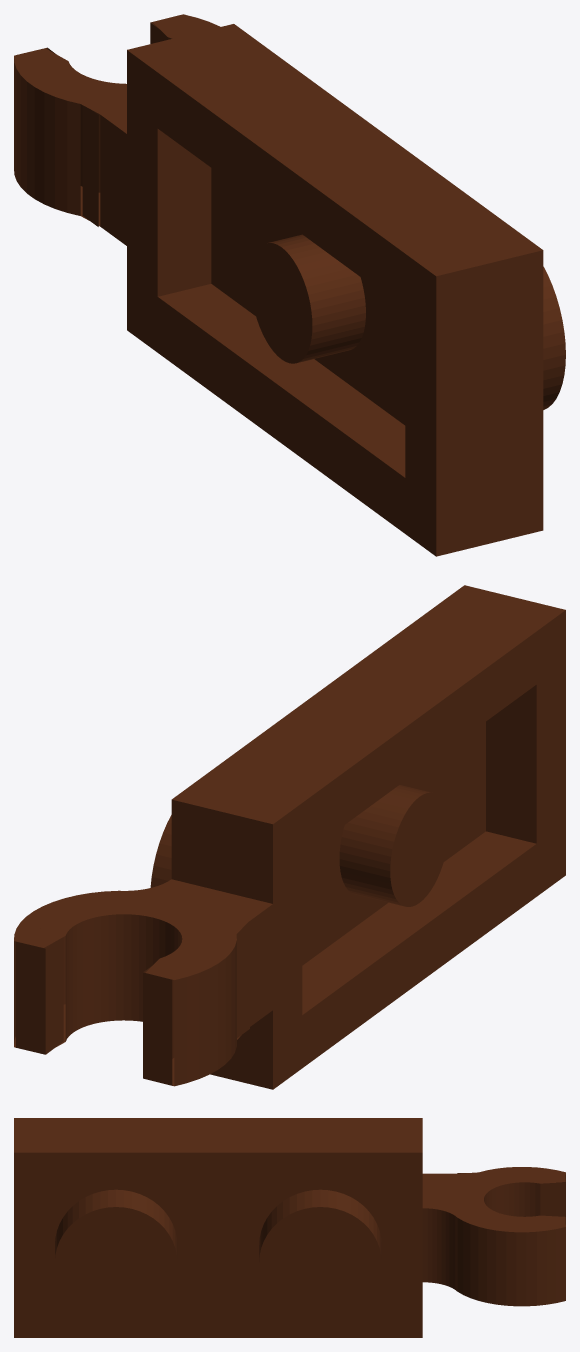
The picture shows the model from 3 angles, top to bottom: view 1: azimuth 30°, elevation 25°; view 2: azimuth 150°, elevation 25°; view 3: azimuth 270°, elevation 25°; orthographic projection. The views are drawn at different scales.
Parts seen in each view (by area): view 1: box3u2p, mesh_42, box5, _3_16cyli_1, _4_4disc, _1_4cyli_3, clip6, rect2p, rect2p_1, _1_4cyli, _1_4cyli_12, _1_4cyli_9 (+1 smaller); view 2: mesh_42, box3u2p, box5, _5_8cyli, rect3_1, clip6, _3_16cyli_1, box2_5_1, _4_4disc, _1_4cyli_2, box2_5, rect3 (+6 smaller); view 3: mesh_42, box3u2p, _4_4disc_2, _4_4disc_1, _1_4cyli_4, clip6, _3_16cyli, _5_8cyli, _1_4cyli_8, _1_4cyli_7, _1_4cyli_11, _1_4cyli_12 (+3 smaller).
Boxes of the visible parts, x1,y1,x2,y2 form: box3u2p: [127, 24, 543, 556]; mesh_42: [127, 50, 436, 556]; box5: [157, 129, 405, 477]; _3_16cyli_1: [14, 59, 80, 215]; _4_4disc: [250, 243, 312, 363]; _1_4cyli_3: [282, 240, 365, 325]; clip6: [14, 14, 197, 226]; rect2p: [100, 115, 126, 245]; rect2p_1: [82, 105, 98, 226]; _1_4cyli: [298, 313, 365, 362]; _1_4cyli_12: [543, 266, 565, 359]; _1_4cyli_9: [543, 354, 565, 409]; mesh_42: [243, 610, 565, 1089]; box3u2p: [172, 585, 565, 824]; box5: [302, 685, 536, 1014]; _5_8cyli: [65, 914, 182, 1058]; rect3_1: [171, 799, 272, 903]; clip6: [14, 879, 272, 1085]; _3_16cyli_1: [174, 940, 236, 1086]; box2_5_1: [16, 937, 63, 1054]; _4_4disc: [390, 792, 448, 906]; _1_4cyli_2: [339, 790, 418, 870]; box2_5: [143, 966, 172, 1085]; rect3: [210, 1010, 272, 1089]; mesh_42: [14, 1152, 422, 1337]; box3u2p: [14, 1118, 422, 1152]; _4_4disc_2: [55, 1207, 177, 1317]; _4_4disc_1: [259, 1207, 381, 1317]; _1_4cyli_4: [457, 1218, 565, 1306]; clip6: [422, 1172, 565, 1226]; _3_16cyli: [422, 1208, 457, 1291]; _5_8cyli: [484, 1182, 540, 1216]; _1_4cyli_8: [259, 1189, 320, 1261]; _1_4cyli_7: [320, 1189, 381, 1258]; _1_4cyli_11: [116, 1189, 177, 1258]; _1_4cyli_12: [55, 1189, 115, 1257].
Bounding box in the file's own units: 15.15 × 20 × 54.04.
